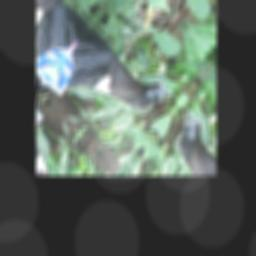Crow: (48, 17, 170, 150)
